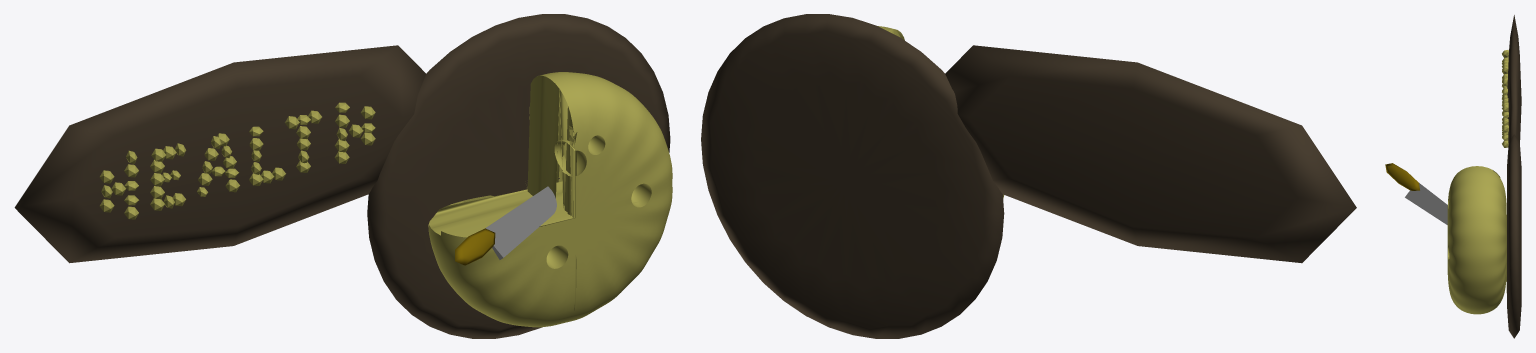
File: 75prcHealth_Bar.fbx
3 renders of one model, left to right at view 1: azimuth 30°, elevation 25°; view 2: azimuth 150°, elevation 25°; view 3: azimuth 270°, elevation 25°, orthographic. The views are drawn at different scales.
Visible parts, largest first — view 1: pCube3, cheeseboard, polySurface1, polySurface2, pCube1, pCube2; view 2: cheeseboard, pCube3; view 3: polySurface1, cheeseboard, pCube3, pCube1, pCube2, polySurface2.
Boxes of the visible parts, bbox=[...] form: pCube3: bbox=[14, 45, 425, 263]; cheeseboard: bbox=[367, 14, 670, 338]; polySurface1: bbox=[428, 72, 672, 327]; polySurface2: bbox=[428, 75, 656, 310]; pCube1: bbox=[485, 186, 556, 259]; pCube2: bbox=[455, 228, 495, 265]; cheeseboard: bbox=[701, 14, 1004, 338]; pCube3: bbox=[945, 45, 1356, 263]; polySurface1: bbox=[1447, 166, 1506, 314]; cheeseboard: bbox=[1507, 134, 1521, 338]; pCube3: bbox=[1507, 15, 1521, 142]; pCube1: bbox=[1405, 183, 1447, 224]; pCube2: bbox=[1385, 163, 1419, 190]; polySurface2: bbox=[1447, 170, 1506, 292].
Bounding box in the file's own units: 29.91 × 14.91 × 9.2.
